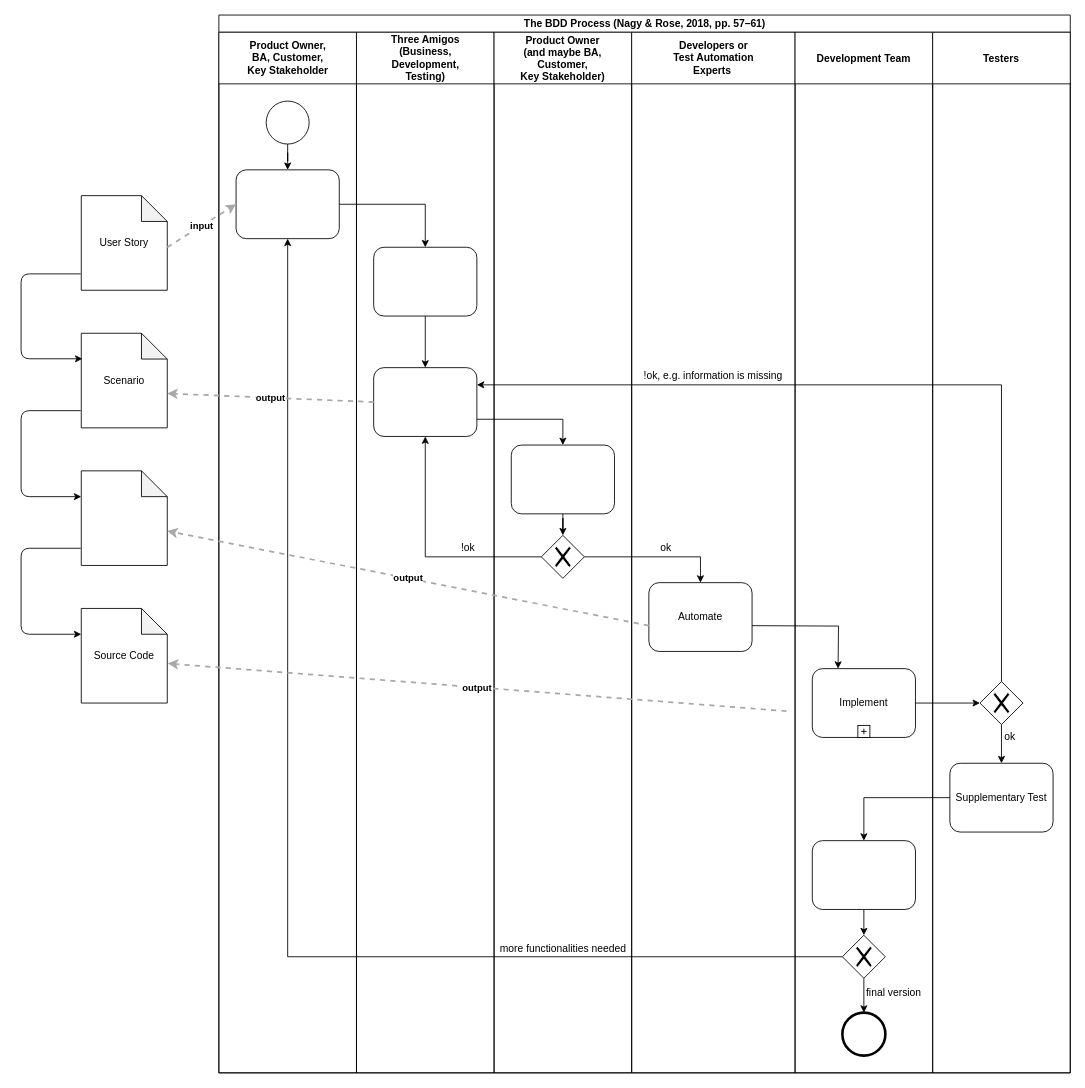
The diagram is 1085 pixels wide and 1088 high, and some of its shapes have lost their labels. Here are the shapes that lost their labels. From the top down, the centre of each, then its label:
[287,204]: Pick a User Story
[425,281]: Requirement Workshop
[425,401]: Formulate
[562,479]: Review
[123,517]: Test Automation Code
[863,874]: Release
